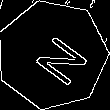N_NW: (20, 24, 85, 86)
